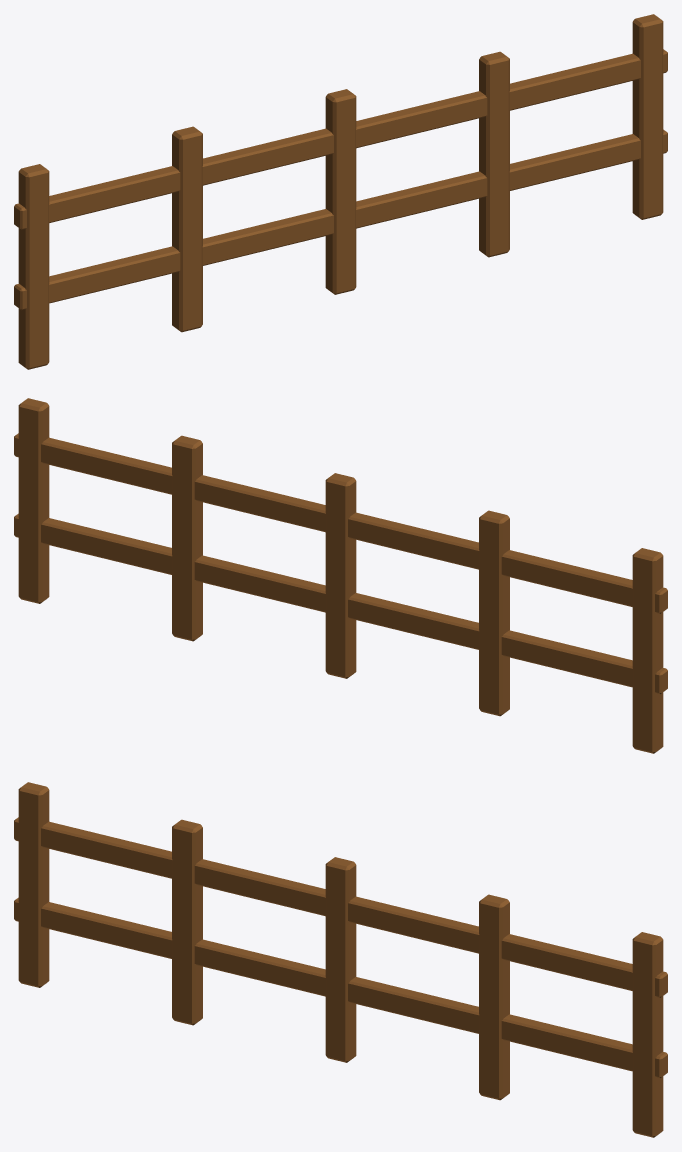
The model's file is fence.glb.
3 renders of one model, top to bottom at view 1: azimuth 30°, elevation 25°; view 2: azimuth 150°, elevation 25°; view 3: azimuth 330°, elevation 25°, orthographic.
Visible parts, largest first — view 1: g_m_8a5a2b; view 2: g_m_8a5a2b; view 3: g_m_8a5a2b.
Boxes of the visible parts, box(x1,y1,x2,y2) form: g_m_8a5a2b: box(14, 14, 667, 369); g_m_8a5a2b: box(14, 398, 667, 753); g_m_8a5a2b: box(14, 782, 667, 1137).
Bounding box in the file's own units: 3.8 × 1.1 × 0.1.
